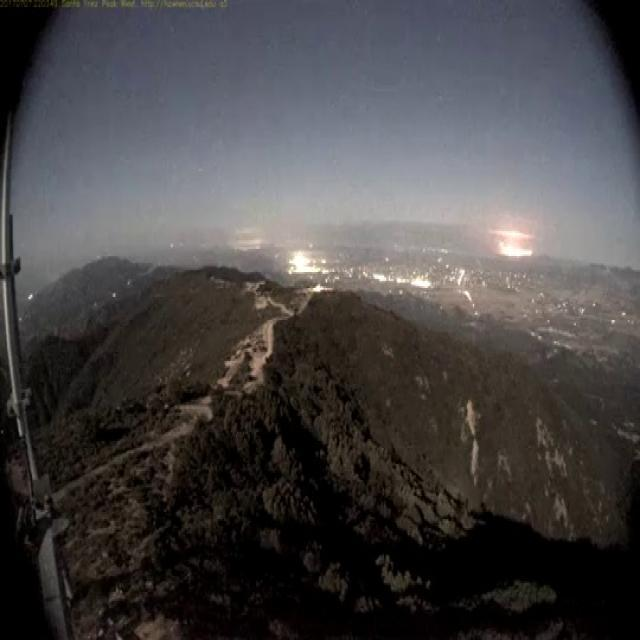Fire: (487, 228, 538, 258)
